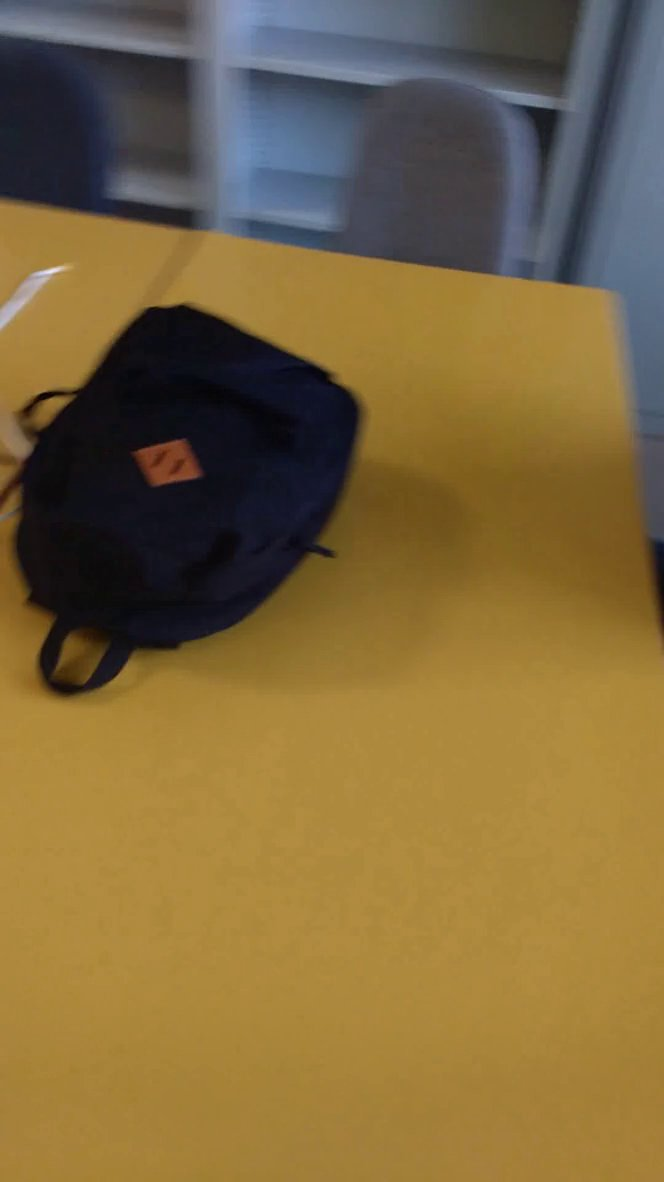bag: (1, 295, 384, 709)
chair: (330, 61, 569, 345)
